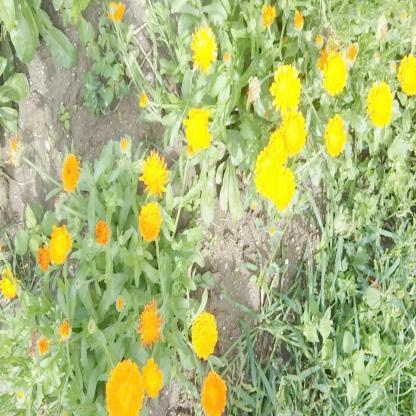marigold: (106, 361, 142, 407), (256, 147, 280, 206), (139, 152, 168, 197), (185, 103, 212, 150), (272, 64, 300, 109), (190, 312, 216, 360), (192, 27, 217, 73), (367, 83, 393, 127), (323, 50, 348, 94), (138, 303, 163, 343), (282, 109, 305, 152), (138, 358, 162, 398), (203, 376, 226, 416), (138, 202, 161, 240), (326, 113, 346, 156), (276, 168, 296, 210), (397, 54, 416, 97), (269, 127, 289, 166), (49, 225, 70, 262), (62, 153, 79, 193), (0, 270, 18, 299)
